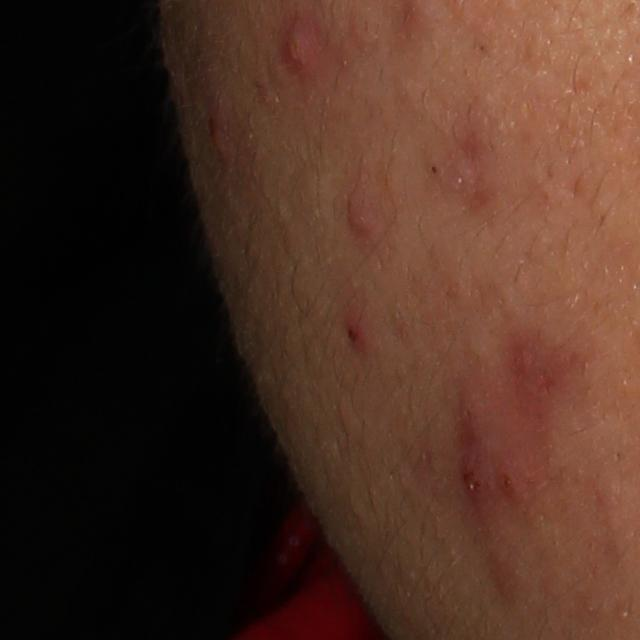comedo: (424, 158, 449, 178)
nodule: (442, 383, 534, 526)
papule: (197, 101, 243, 161), (338, 309, 374, 368), (343, 187, 379, 244), (283, 26, 319, 76)
